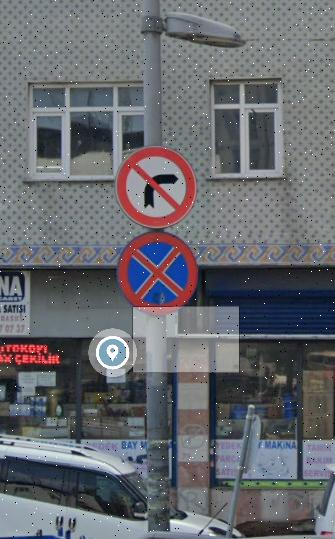rightturnsareforbidden: (116, 148, 202, 230)
